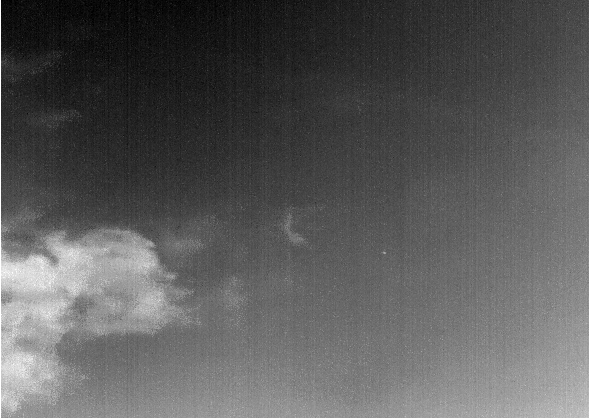dim target: (381, 250, 388, 256)
